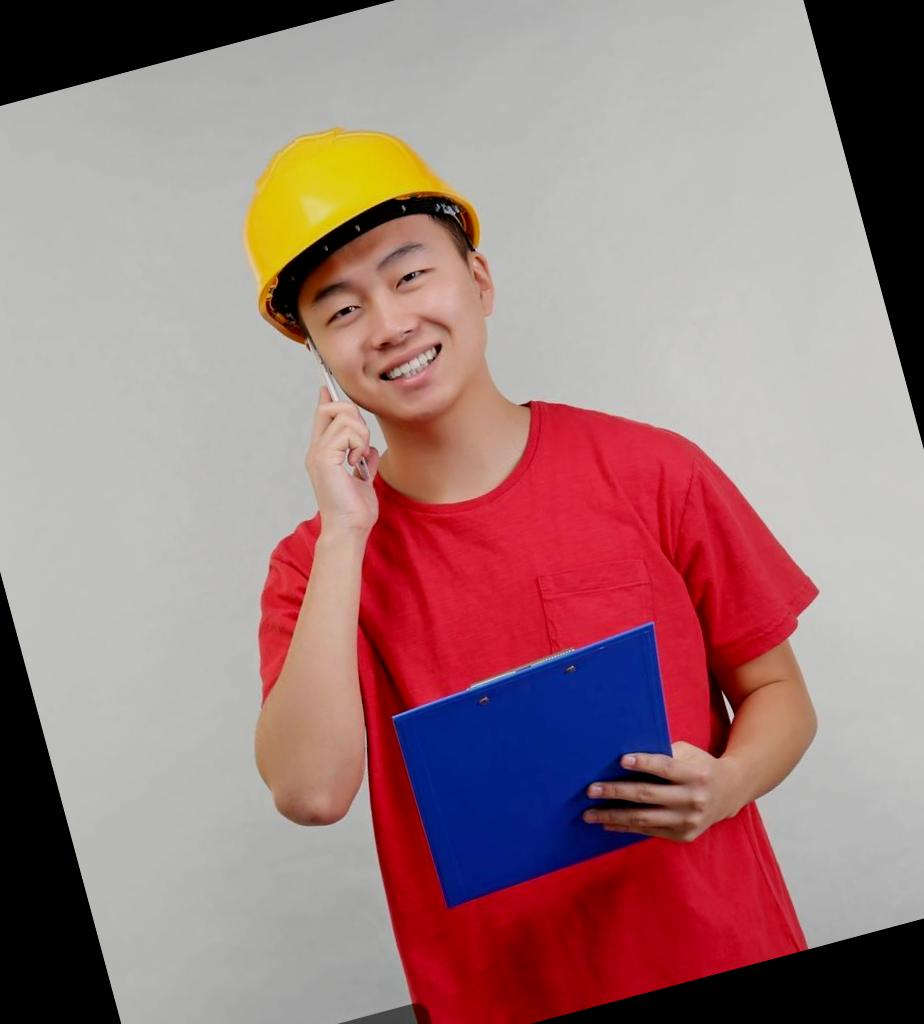helmet: (202, 91, 506, 357)
no_vest: (250, 364, 896, 1024)
person: (83, 13, 924, 1024)
